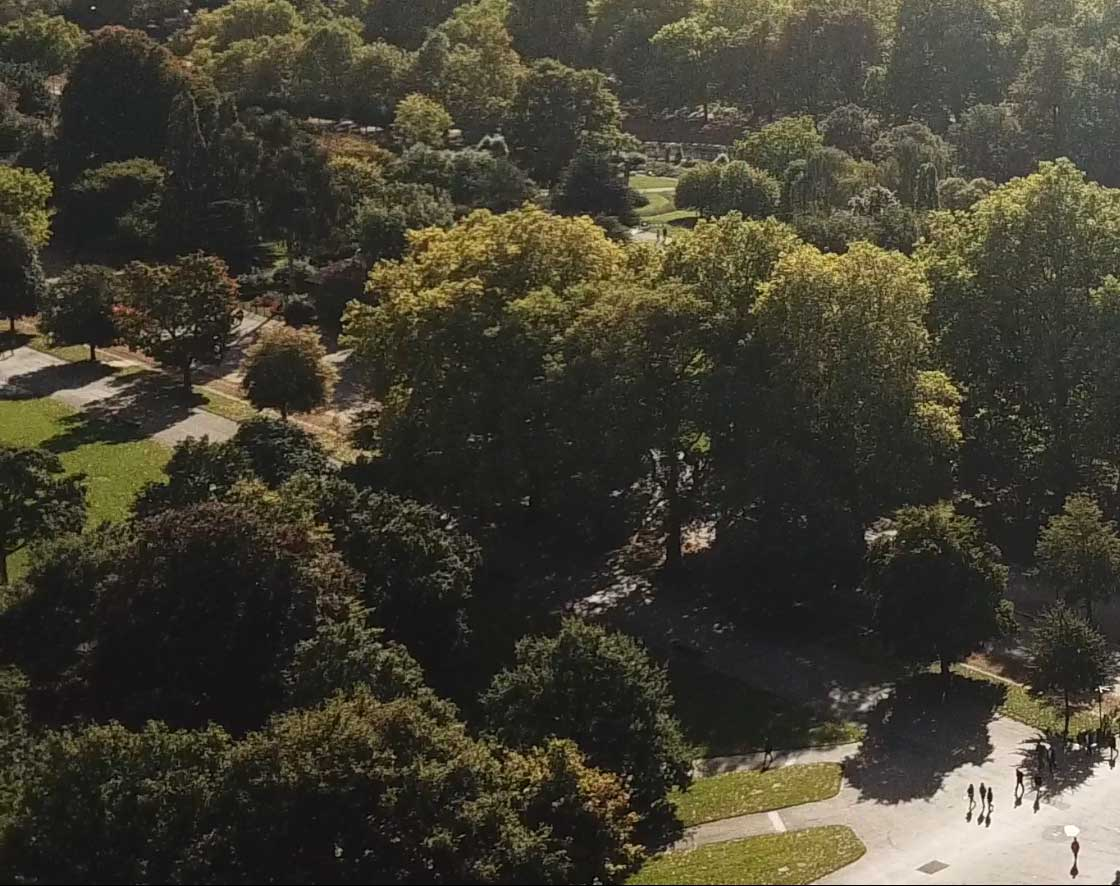tree: (111, 245, 239, 387)
trees: (355, 214, 982, 574), (7, 527, 639, 872), (4, 5, 637, 310)
